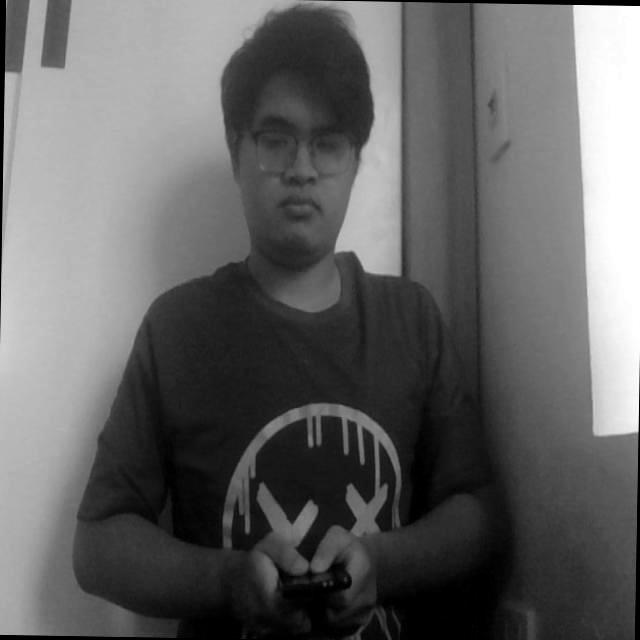phone: (261, 533, 354, 626)
